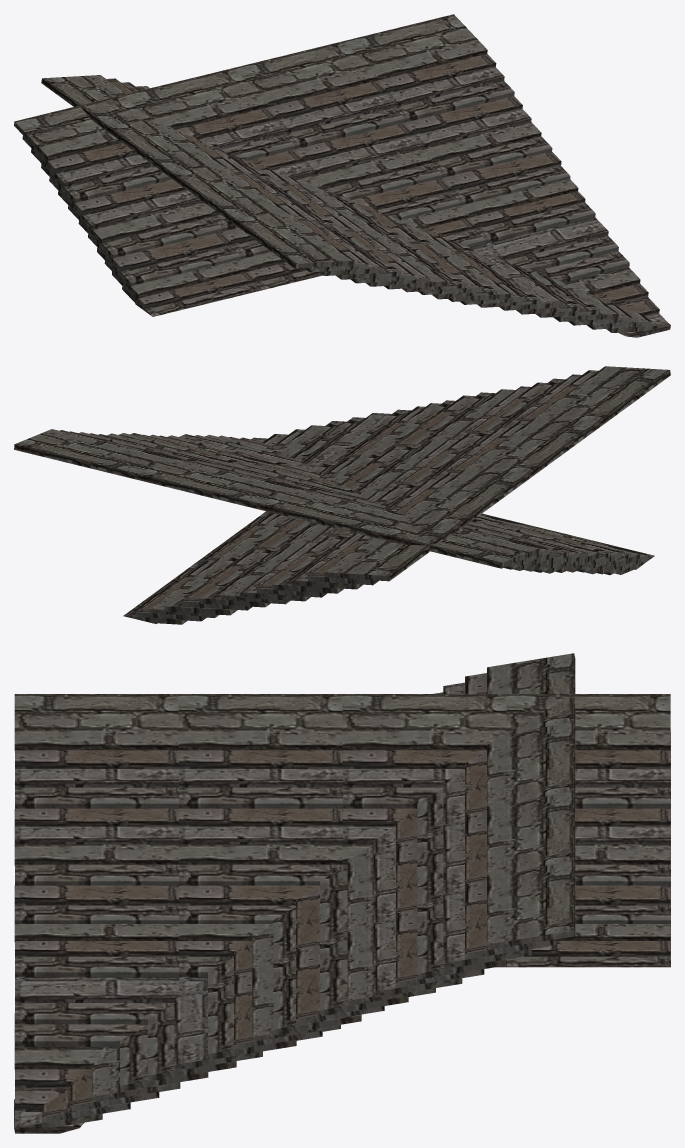
File: RoofTopStone(geçiş).fbx
3 renders of one model, top to bottom at view 1: azimuth 30°, elevation 25°; view 2: azimuth 150°, elevation 25°; view 3: azimuth 270°, elevation 25°, orthographic. The views are drawn at different scales.
Visible parts, largest first — view 1: Cube.001; view 2: Cube.001; view 3: Cube.001.
Boxes of the visible parts, box(x1,y1,x2,y2) form: Cube.001: box(14, 14, 670, 337); Cube.001: box(14, 366, 670, 624); Cube.001: box(14, 653, 670, 1133).
Size of the model in its own units: 176 by 60.14 by 176.
1 material, 1 textured.
